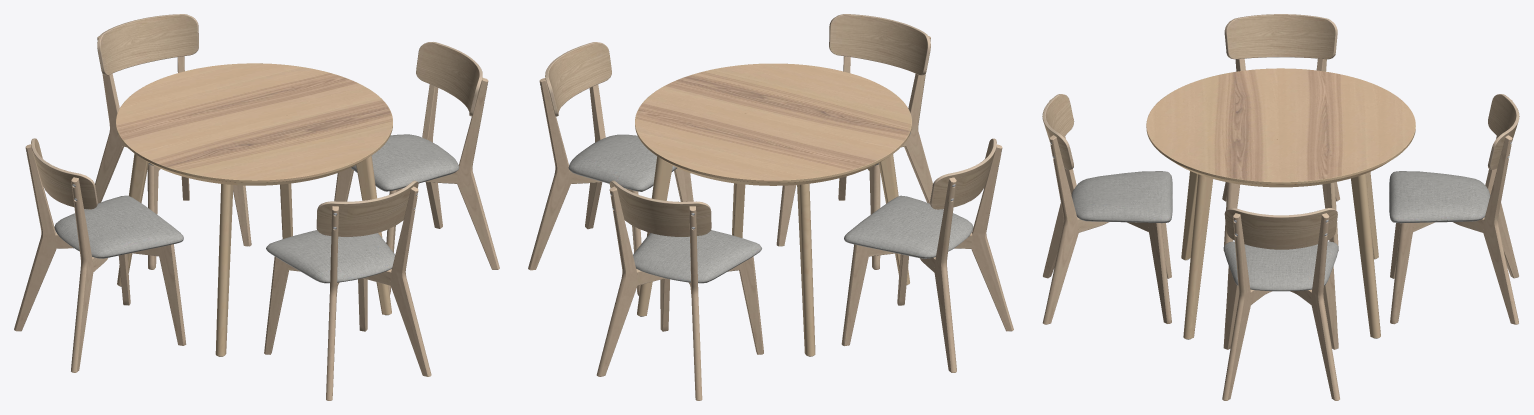
Rendered from lisabo_lisabo_sto_i_4_krzesa_79554851.glb.
The picture shows the model from 3 angles, left to right: view 1: azimuth 30°, elevation 25°; view 2: azimuth 150°, elevation 25°; view 3: azimuth 270°, elevation 25°; orthographic projection. The views are drawn at different scales.
Parts seen in each view (by area): view 1: lisabo_lisabo_sto_i_4_krzesa_79554851; view 2: lisabo_lisabo_sto_i_4_krzesa_79554851; view 3: lisabo_lisabo_sto_i_4_krzesa_79554851.
Boxes of the visible parts, x1=… form: lisabo_lisabo_sto_i_4_krzesa_79554851: x1=14, y1=14, x2=499, y2=400; lisabo_lisabo_sto_i_4_krzesa_79554851: x1=528, y1=14, x2=1013, y2=400; lisabo_lisabo_sto_i_4_krzesa_79554851: x1=1042, y1=14, x2=1519, y2=400.
Bounding box in the file's own units: 1.87 × 0.8 × 1.86.
Materials: 1 (1 with a texture image).
